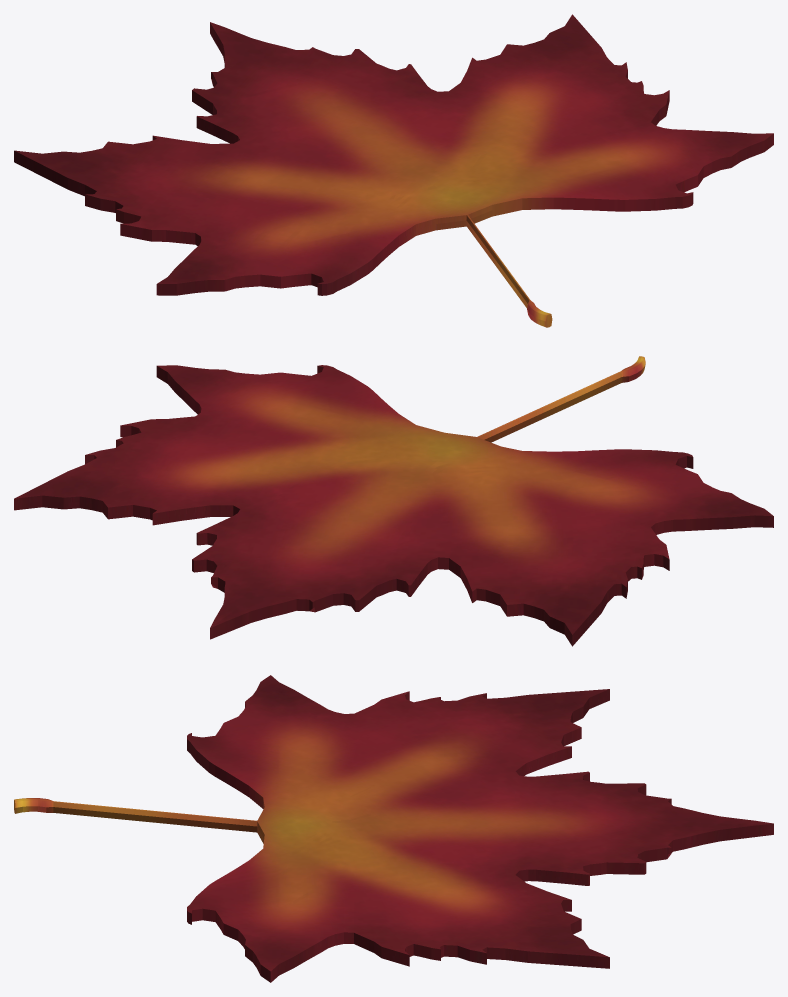
File: Leaf_01_Regular.fbx
3 renders of one model, top to bottom at view 1: azimuth 30°, elevation 25°; view 2: azimuth 150°, elevation 25°; view 3: azimuth 270°, elevation 25°, orthographic.
Parts seen in each view (by area): view 1: Leaf_01_Regular; view 2: Leaf_01_Regular; view 3: Leaf_01_Regular.
Part boxes in pixels (x1,y1,x2,y2): Leaf_01_Regular: (14, 14, 773, 327); Leaf_01_Regular: (14, 356, 773, 646); Leaf_01_Regular: (14, 675, 773, 982).
Size of the model in its own units: 3.14 by 0.0634 by 3.4.
